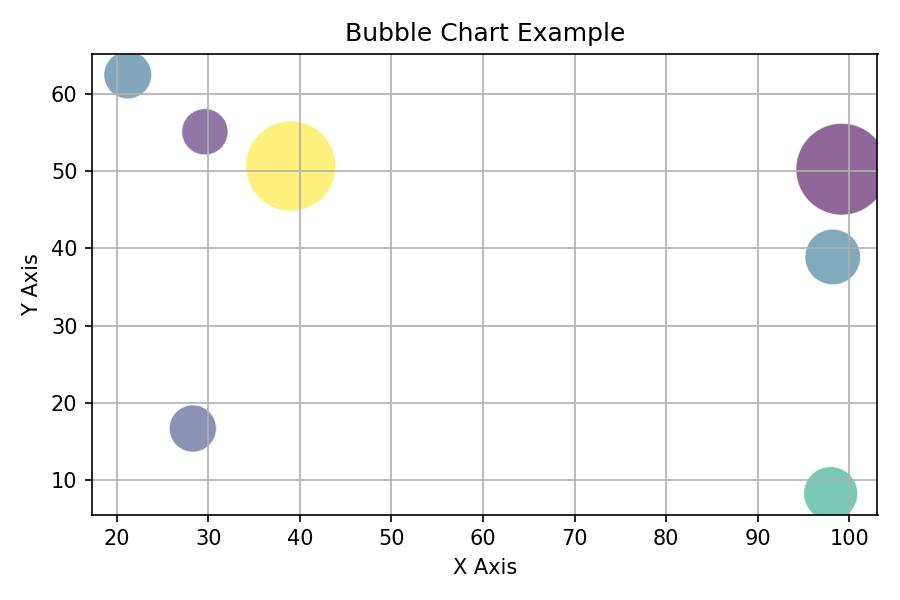axis: (74, 505, 885, 547), (51, 40, 100, 545)
circle: (246, 121, 336, 209), (794, 125, 877, 217), (805, 230, 859, 283), (803, 468, 859, 514), (168, 405, 218, 453), (104, 54, 154, 98), (181, 109, 228, 153)
